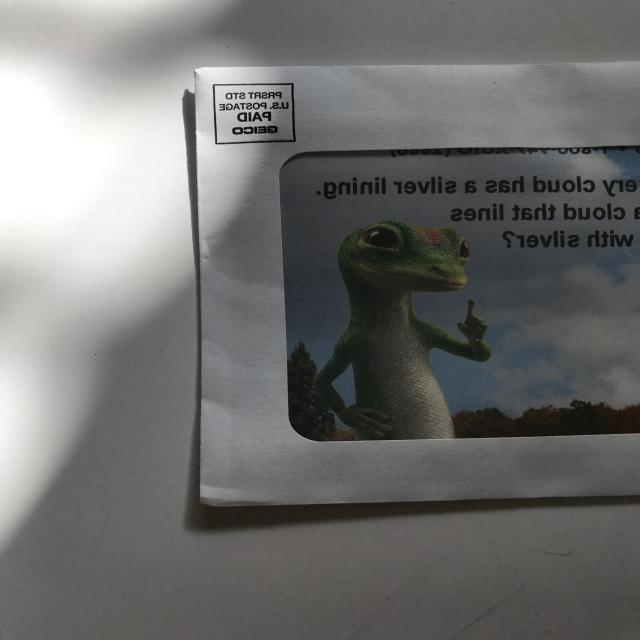paper: (0, 4, 640, 639)
